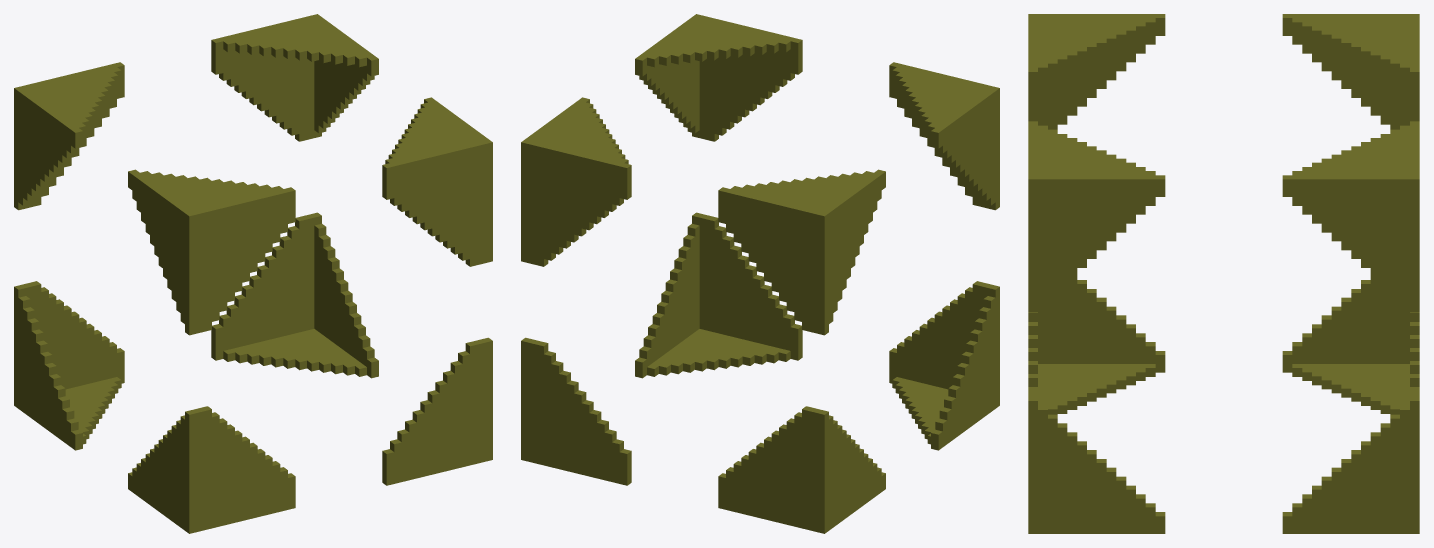
Rendered from CubeTesseract.obj.
The picture shows the model from 3 angles, left to right: view 1: azimuth 30°, elevation 25°; view 2: azimuth 150°, elevation 25°; view 3: azimuth 270°, elevation 25°; orthographic projection. The views are drawn at different scales.
Parts seen in each view (by area): view 1: CubeTesseract; view 2: CubeTesseract; view 3: CubeTesseract.
Part boxes in pixels (box(x1,y1,x2,y2)): CubeTesseract: box(14, 14, 492, 533); CubeTesseract: box(521, 14, 999, 533); CubeTesseract: box(1028, 14, 1419, 533).
Bounding box in the file's own units: 40 × 40 × 40.
1 material, 1 textured.
